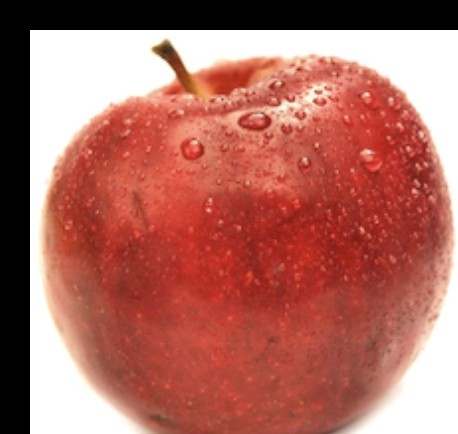fresh_apple: (42, 60, 453, 434)
